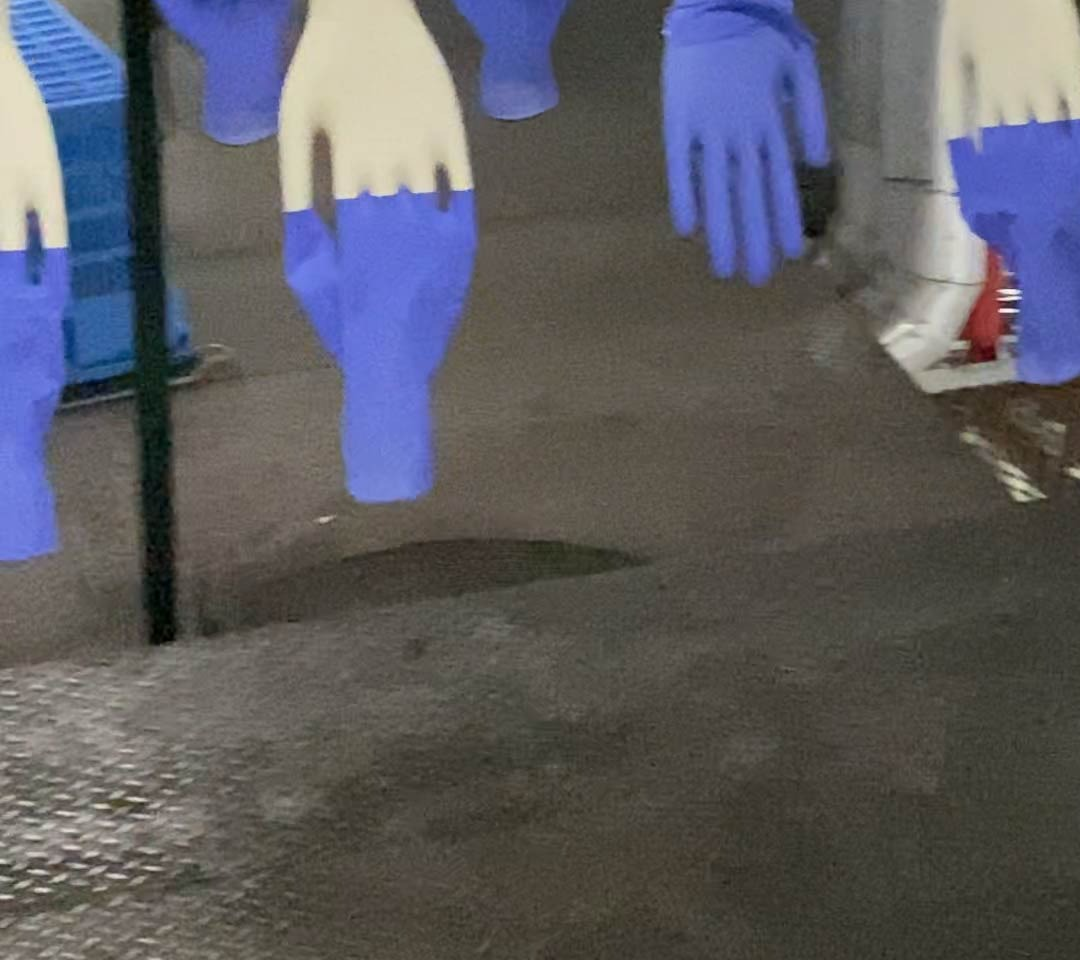glove: (272, 182, 478, 508), (650, 1, 834, 285), (944, 109, 1080, 369), (1, 241, 74, 568)
